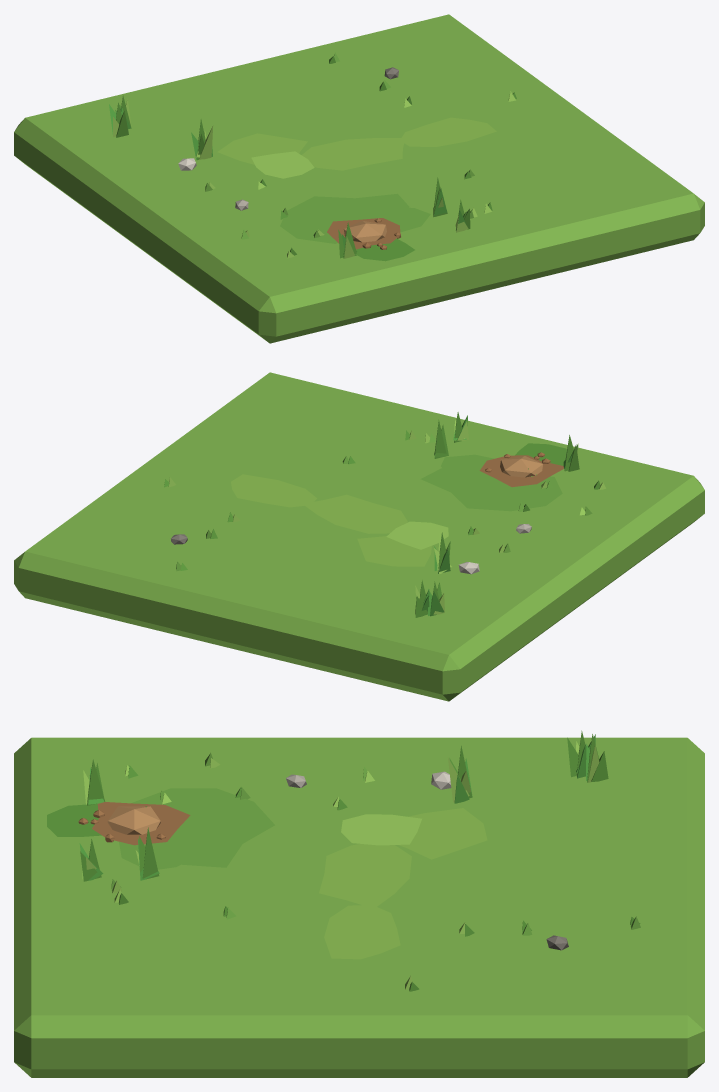
Rendered from tile_grass_g.fbx.
3 views of the same model, one above another, from view 1: azimuth 30°, elevation 25°; view 2: azimuth 150°, elevation 25°; view 3: azimuth 270°, elevation 25° (orthographic). The views are drawn at different scales.
Parts seen in each view (by area): view 1: tile_grass_g; view 2: tile_grass_g; view 3: tile_grass_g.
Part boxes in pixels (x1,y1,x2,y2): tile_grass_g: (14,14,704,343); tile_grass_g: (14,372,704,701); tile_grass_g: (14,730,704,1077).
Bounding box in the file's own units: 1 × 0.1842 × 1.
